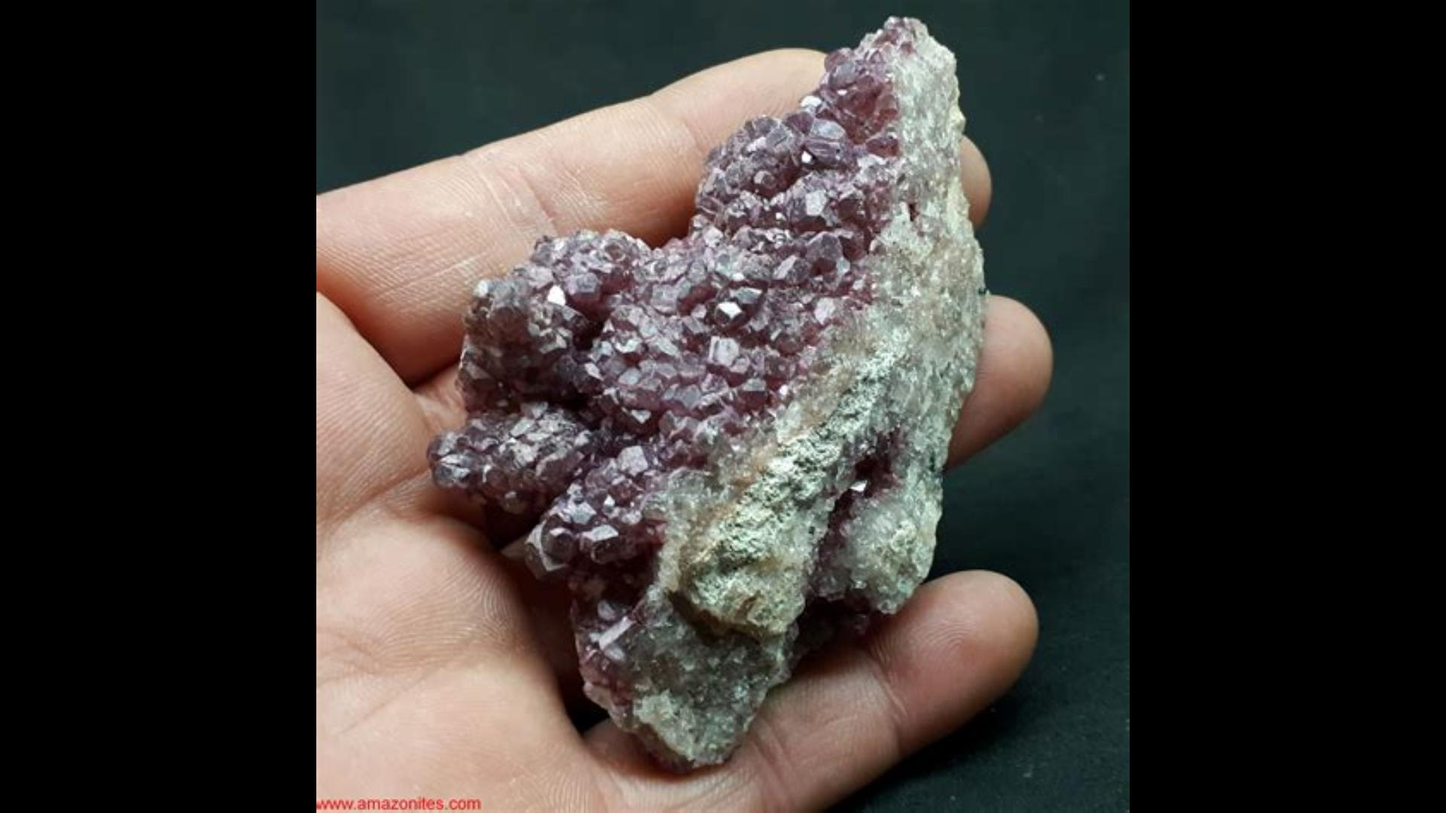rock: (431, 21, 980, 768)
